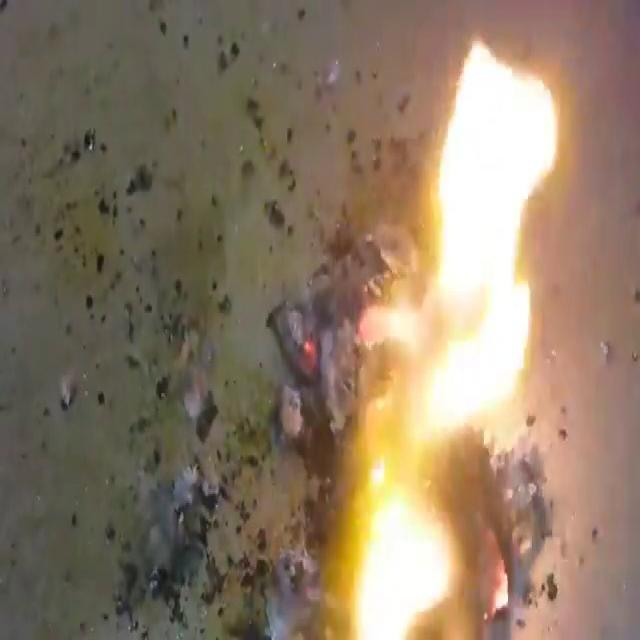Fire: (319, 36, 563, 636)
